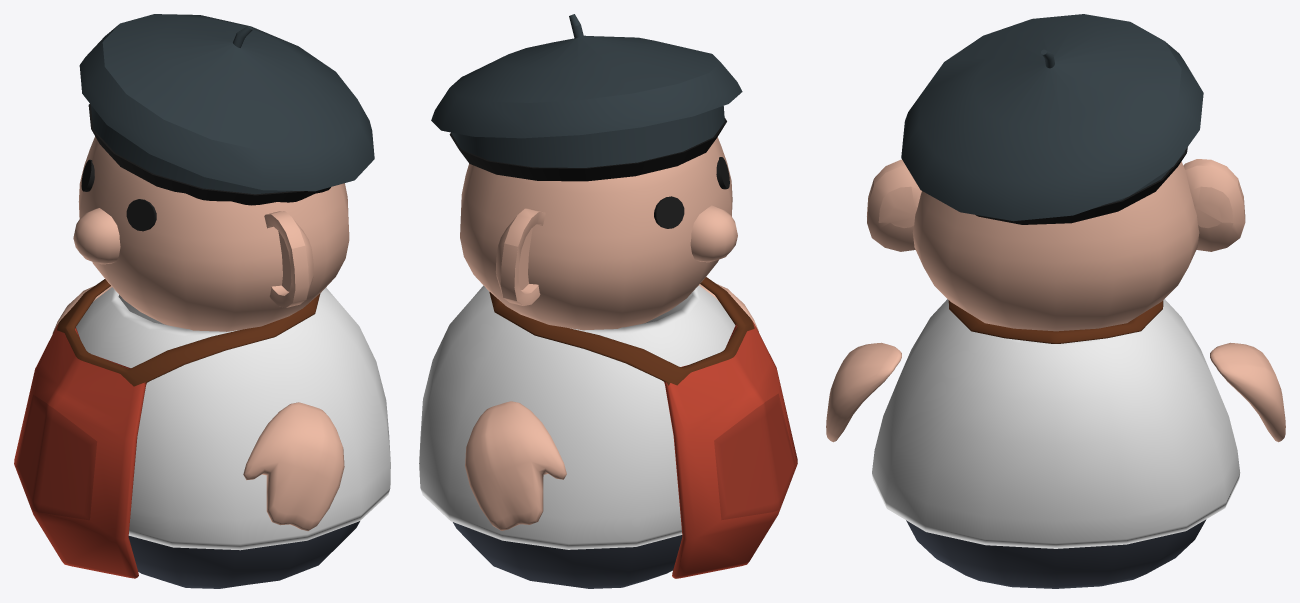
Rendered from player.fbx.
The picture shows the model from 3 angles, left to right: view 1: azimuth 30°, elevation 25°; view 2: azimuth 150°, elevation 25°; view 3: azimuth 270°, elevation 25°; orthographic projection.
Visible parts, largest first — view 1: Top, Hat, Apron, Head, Hands, Bottom, Ears, Nose, Eyes; view 2: Top, Hat, Head, Apron, Hands, Bottom, Ears, Nose, Eyes; view 3: Top, Hat, Head, Bottom, Ears, Hands, Apron.
Boxes of the visible parts, x1,y1,x2,y2 form: Top: (76,287,390,550); Hat: (79,14,374,205); Apron: (14,279,320,578); Head: (78,136,349,331); Hands: (52,286,344,530); Bottom: (128,521,359,588); Ears: (264,211,313,307); Nose: (73,208,120,264); Eyes: (81,159,156,231); Top: (419,285,735,549); Hat: (431,14,742,181); Head: (460,137,732,330); Apron: (489,277,797,578); Hands: (465,284,758,530); Bottom: (453,522,682,588); Ears: (495,208,545,306); Nose: (690,205,737,262); Eyes: (654,157,729,228); Top: (872,299,1240,548); Hat: (901,14,1203,224); Head: (912,161,1199,331); Bottom: (906,519,1206,588); Ears: (867,159,1245,251); Hands: (826,342,1285,442); Apron: (948,300,1163,343).
Size of the model in its own units: 330 by 501 by 400.
